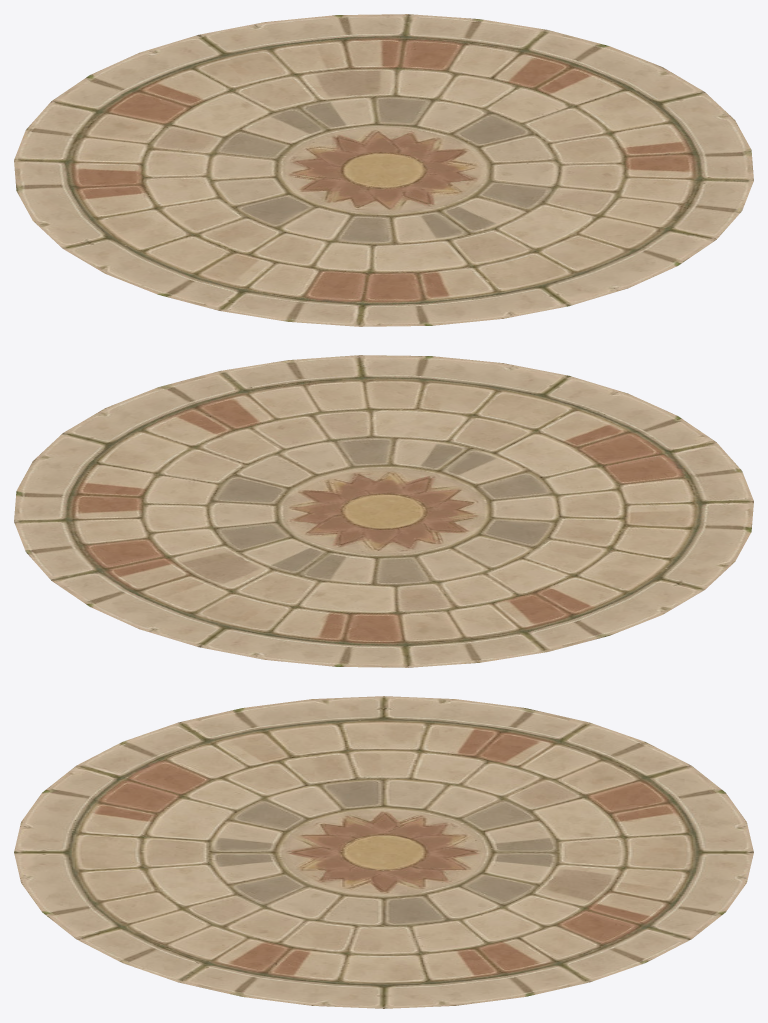
Rendered from plaza-tile.glb.
3 views of the same model, one above another, from view 1: azimuth 30°, elevation 25°; view 2: azimuth 150°, elevation 25°; view 3: azimuth 270°, elevation 25° (orthographic).
Size of the model in its own units: 1.9 by 0 by 1.9.
Materials: 1 (1 with a texture image).
